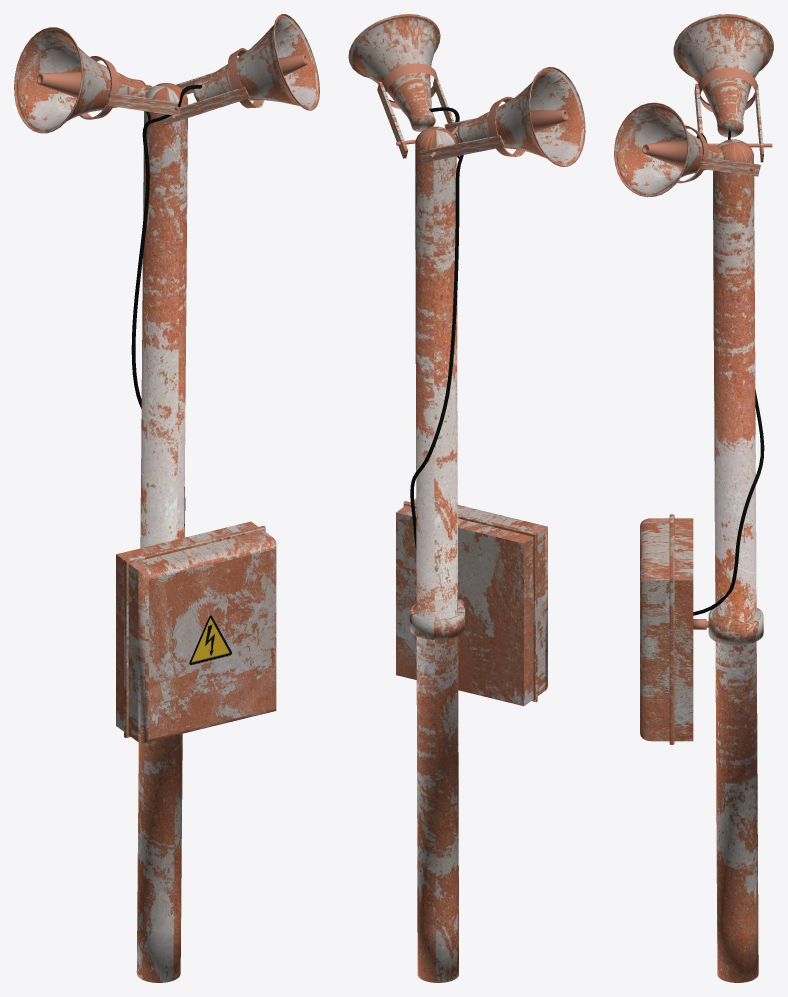
File: kjdthgmortsfunkii.glb
The picture shows the model from 3 angles, left to right: view 1: azimuth 30°, elevation 25°; view 2: azimuth 150°, elevation 25°; view 3: azimuth 270°, elevation 25°; orthographic projection. The views are drawn at different scales.
Parts seen in each view (by area): view 1: pfosten; view 2: pfosten; view 3: pfosten.
Part boxes in pixels (<box>): pfosten: <box>14,14,319,982</box>; pfosten: <box>348,14,585,982</box>; pfosten: <box>614,14,773,982</box>.
Bounding box in the file's own units: 0.6594 × 2.36 × 0.3734.
3 materials, 2 textured.
